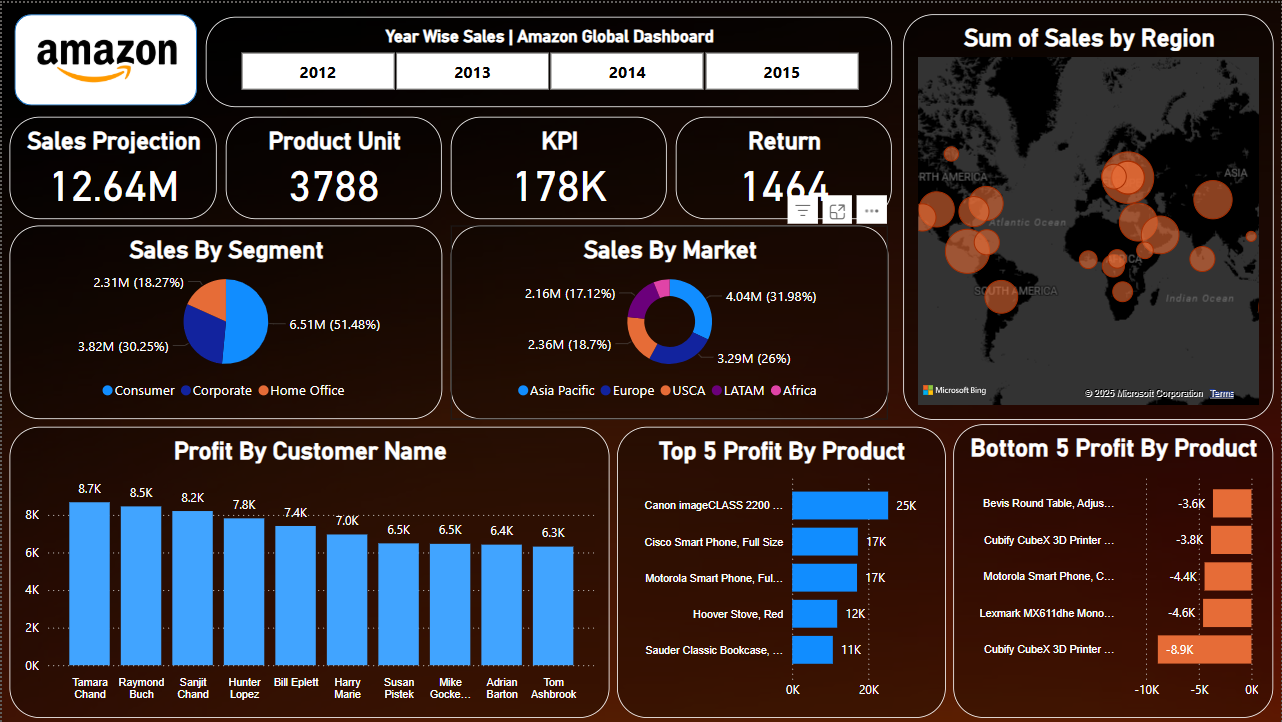

Layout of this report page (visuals, bound fields, positions):
{"tool":"powerbi","page":{"name":"Page 1","canvas":[1280,720],"ordinal":0},"visuals":[{"type":"slicer","title":"Year Wise Sales | Amazon Global Dashboard","fields":{"Values":["Orders.Year"]},"box":[203.8,13.8,686.2,90],"z":0},{"type":"card","title":"Sales Projection","fields":{"Values":["Orders.Sales"]},"box":[7.5,113.8,207.5,102.5],"z":1000},{"type":"shape","box":[12.5,11.2,182.5,91.2],"z":2000},{"type":"image","box":[15,12.5,180,91.2],"z":3000},{"type":"card","title":"Product Unit","fields":{"Values":["Orders.Product Name"]},"box":[223.8,113.8,216.2,102.5],"z":4000},{"type":"card","title":"KPI","fields":{"Values":["Orders.Quantity"]},"box":[448.8,113.8,216.2,102.5],"z":5000},{"type":"card","title":"Return ","fields":{"Values":["Orders.Ship Date"]},"box":[673.8,113.8,216.2,102.5],"z":6000},{"type":"pieChart","title":"Sales By Segment","fields":{"Category":["Orders.Segment"],"Y":["Orders.Sales"]},"box":[7.5,222.5,432.5,193.8],"z":7000},{"type":"donutChart","title":"Sales By Market","fields":{"Y":["Orders.Sales"],"Category":["Orders.Market"]},"box":[448.8,222.5,437.5,193.8],"z":8000},{"type":"columnChart","title":"Profit By Customer Name","fields":{"Category":["Orders.Customer Name"],"Y":["Orders.Profit"]},"box":[7.5,423.8,600,291.2],"z":9000},{"type":"clusteredBarChart","title":"Bottom 5 Profit By Product","fields":{"Y":["Orders.Profit"],"Category":["Orders.Product Name"]},"box":[951.2,421.2,320,293.8],"z":10000},{"type":"clusteredBarChart","title":"Top 5 Profit By Product","fields":{"Y":["Orders.Profit"],"Category":["Orders.Product Name"]},"box":[615,423.8,328.8,291.2],"z":11000},{"type":"map","fields":{"Category":["Orders.Region"],"Size":["Orders.Sales"]},"box":[900.6,11.2,370.7,405.5],"z":11001}]}

Visuals, with their boxes in screenshot pixels (x1, y1, x2, y2), scaled from the page's 1280x720 canvas onto the 1282x722 screenshot:
"Year Wise Sales | Amazon Global Dashboard" slicer: x1=204, y1=14, x2=891, y2=104
"Sales Projection" card: x1=8, y1=114, x2=215, y2=217
shape: x1=13, y1=11, x2=195, y2=103
image: x1=15, y1=13, x2=195, y2=104
"Product Unit" card: x1=224, y1=114, x2=441, y2=217
"KPI" card: x1=450, y1=114, x2=666, y2=217
"Return " card: x1=675, y1=114, x2=891, y2=217
"Sales By Segment" pieChart: x1=8, y1=223, x2=441, y2=417
"Sales By Market" donutChart: x1=450, y1=223, x2=888, y2=417
"Profit By Customer Name" columnChart: x1=8, y1=425, x2=608, y2=717
"Bottom 5 Profit By Product" clusteredBarChart: x1=953, y1=422, x2=1273, y2=717
"Top 5 Profit By Product" clusteredBarChart: x1=616, y1=425, x2=945, y2=717
map - Orders.Region x Orders.Sales: x1=902, y1=11, x2=1273, y2=418
